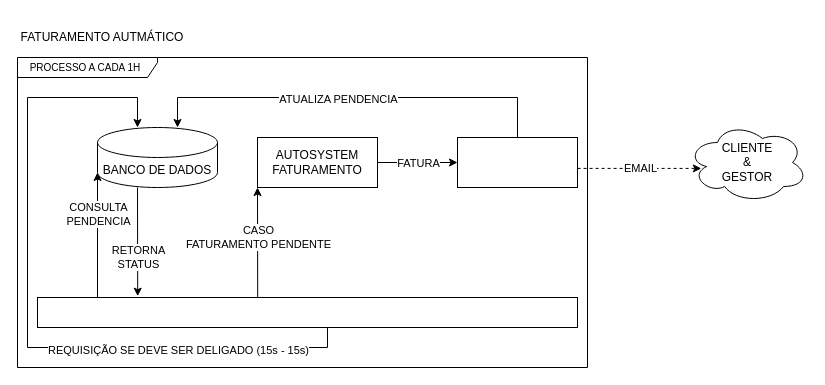
Some shapes in this 825 by 385 pixel diagram are drawn without their labels. The shapes that lost their labels are listed below. From the top down, each one's centre as x and y in pixels, then its label:
At [517,162]: "FATURA JÁ FATURADA".
At [307,312]: "SERVIÇO DO WINDOWS".
